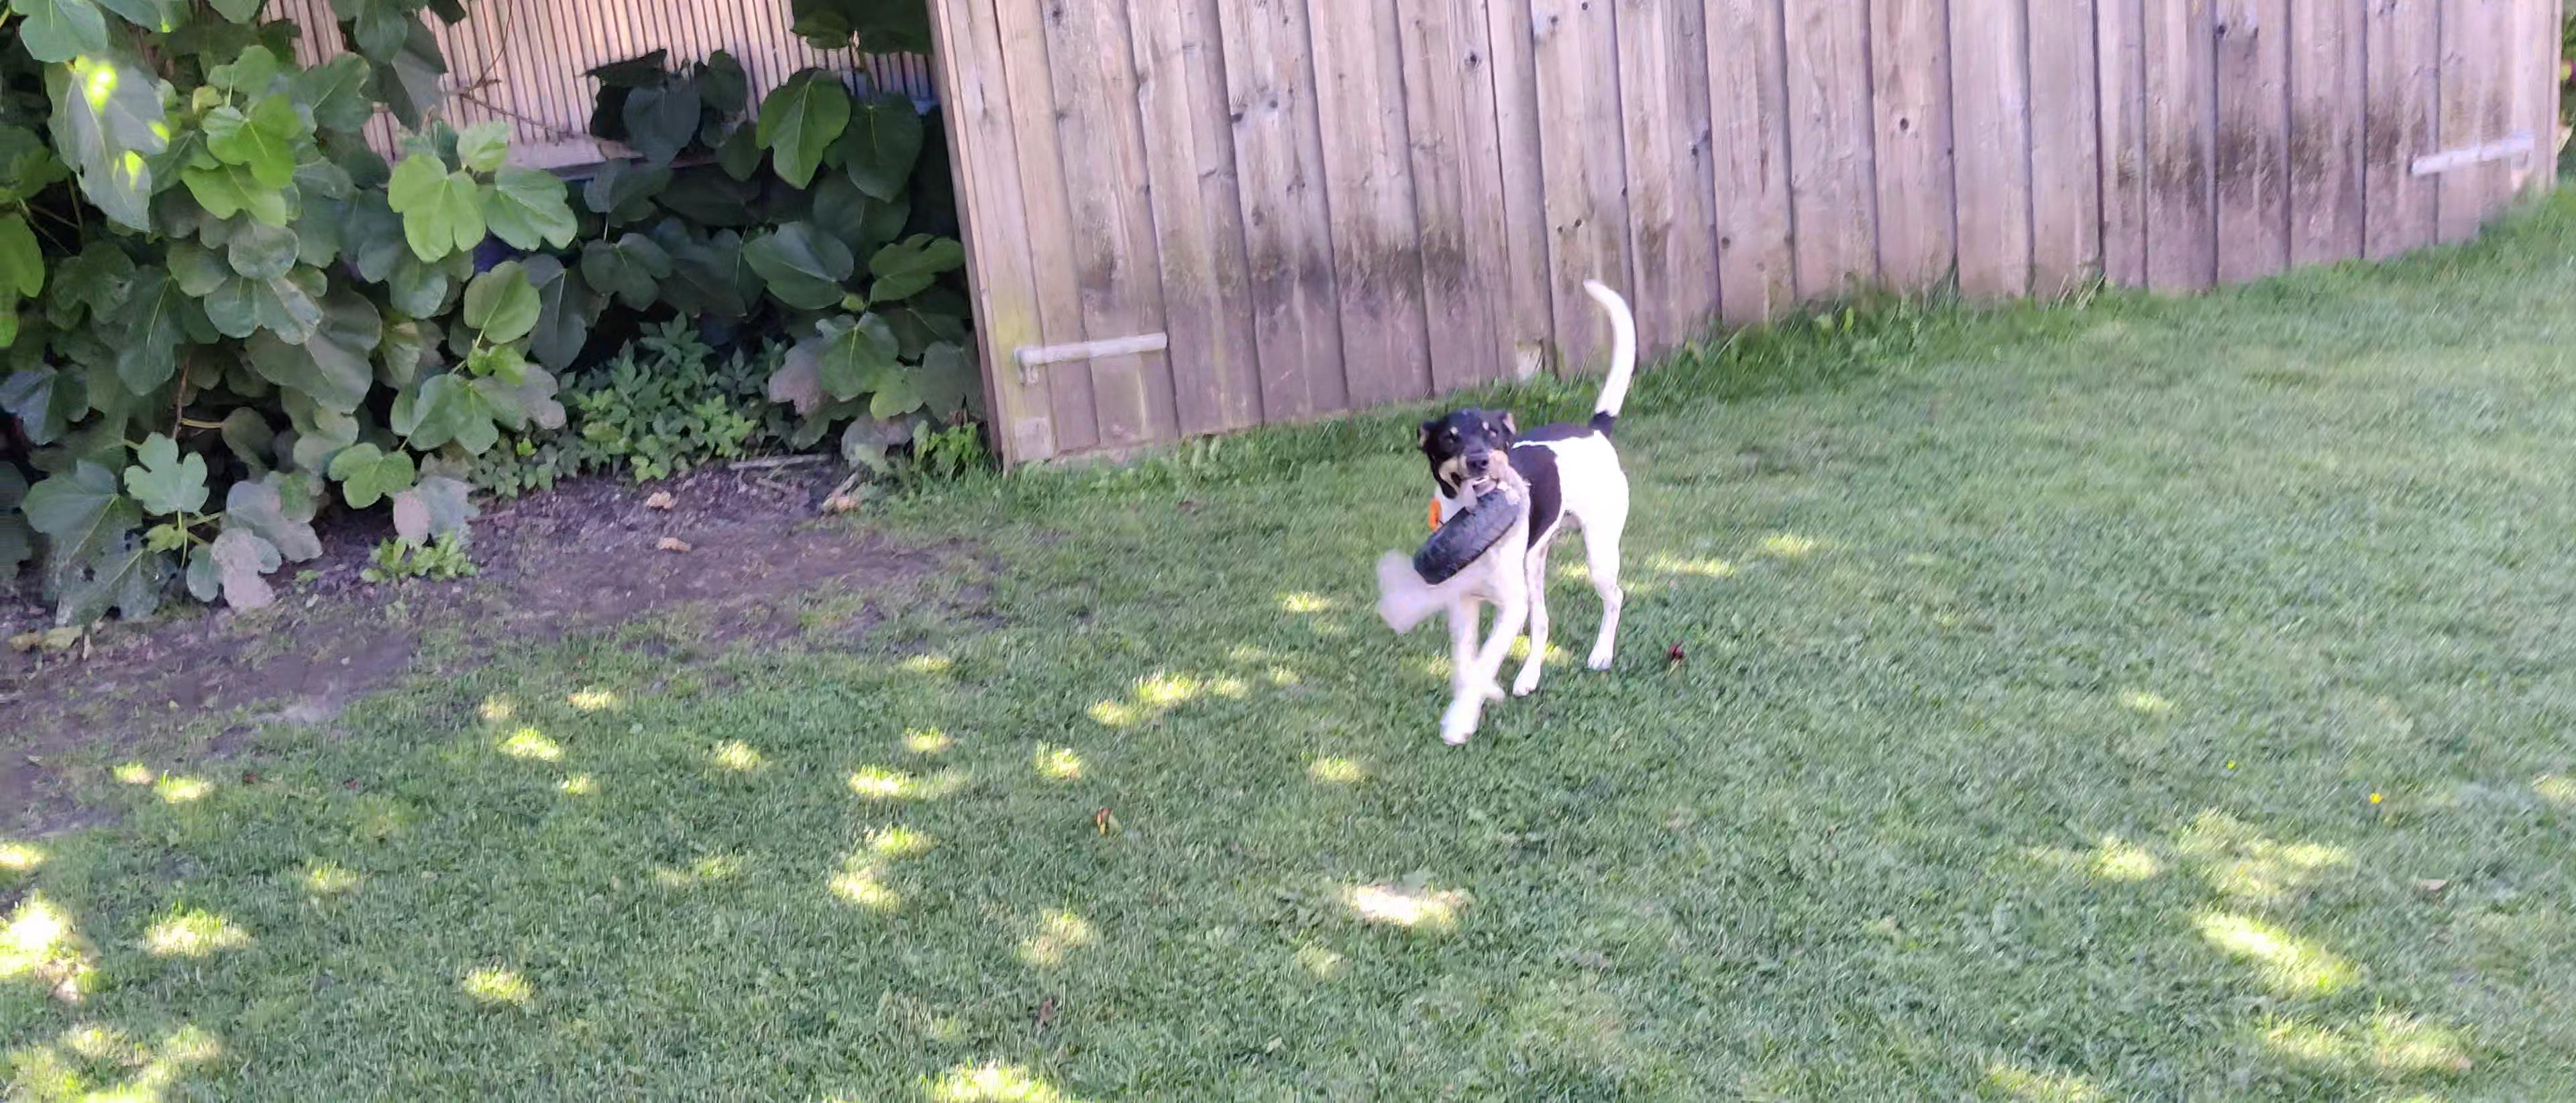Dog: (1377, 273, 1648, 743)
